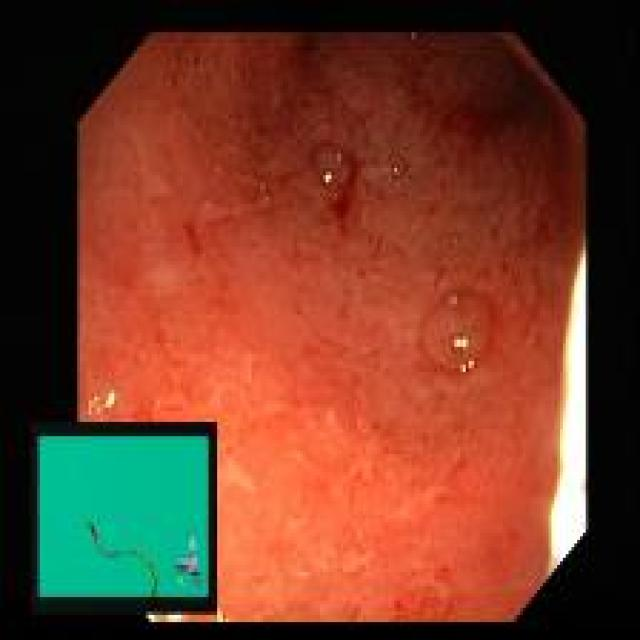ulcerative-colitis: (79, 33, 585, 621)
